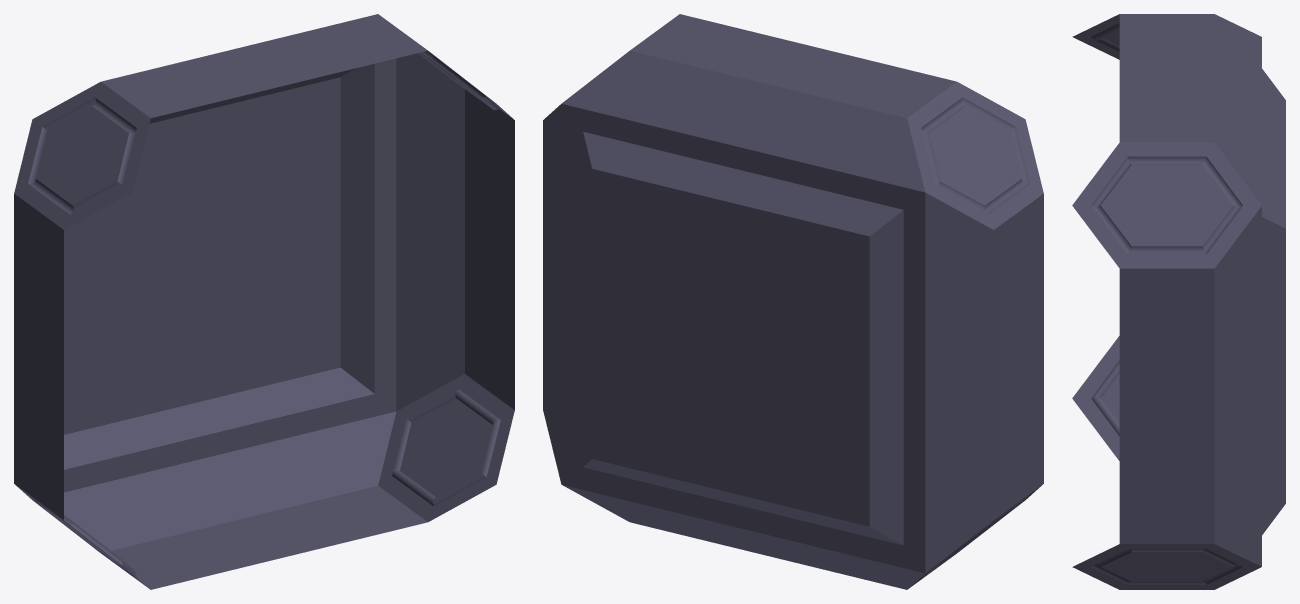
Rendered from cargo.fbx.
3 views of the same model, side by side, from view 1: azimuth 30°, elevation 25°; view 2: azimuth 150°, elevation 25°; view 3: azimuth 270°, elevation 25° (orthographic). The views are drawn at different scales.
Visible parts, largest first — view 1: cargo; view 2: cargo; view 3: cargo.
Part boxes in pixels (x1,y1,x2,y2): cargo: (14,14,514,589); cargo: (543,14,1043,589); cargo: (1072,14,1285,589).
Size of the model in its own units: 52 by 52 by 22.5.
